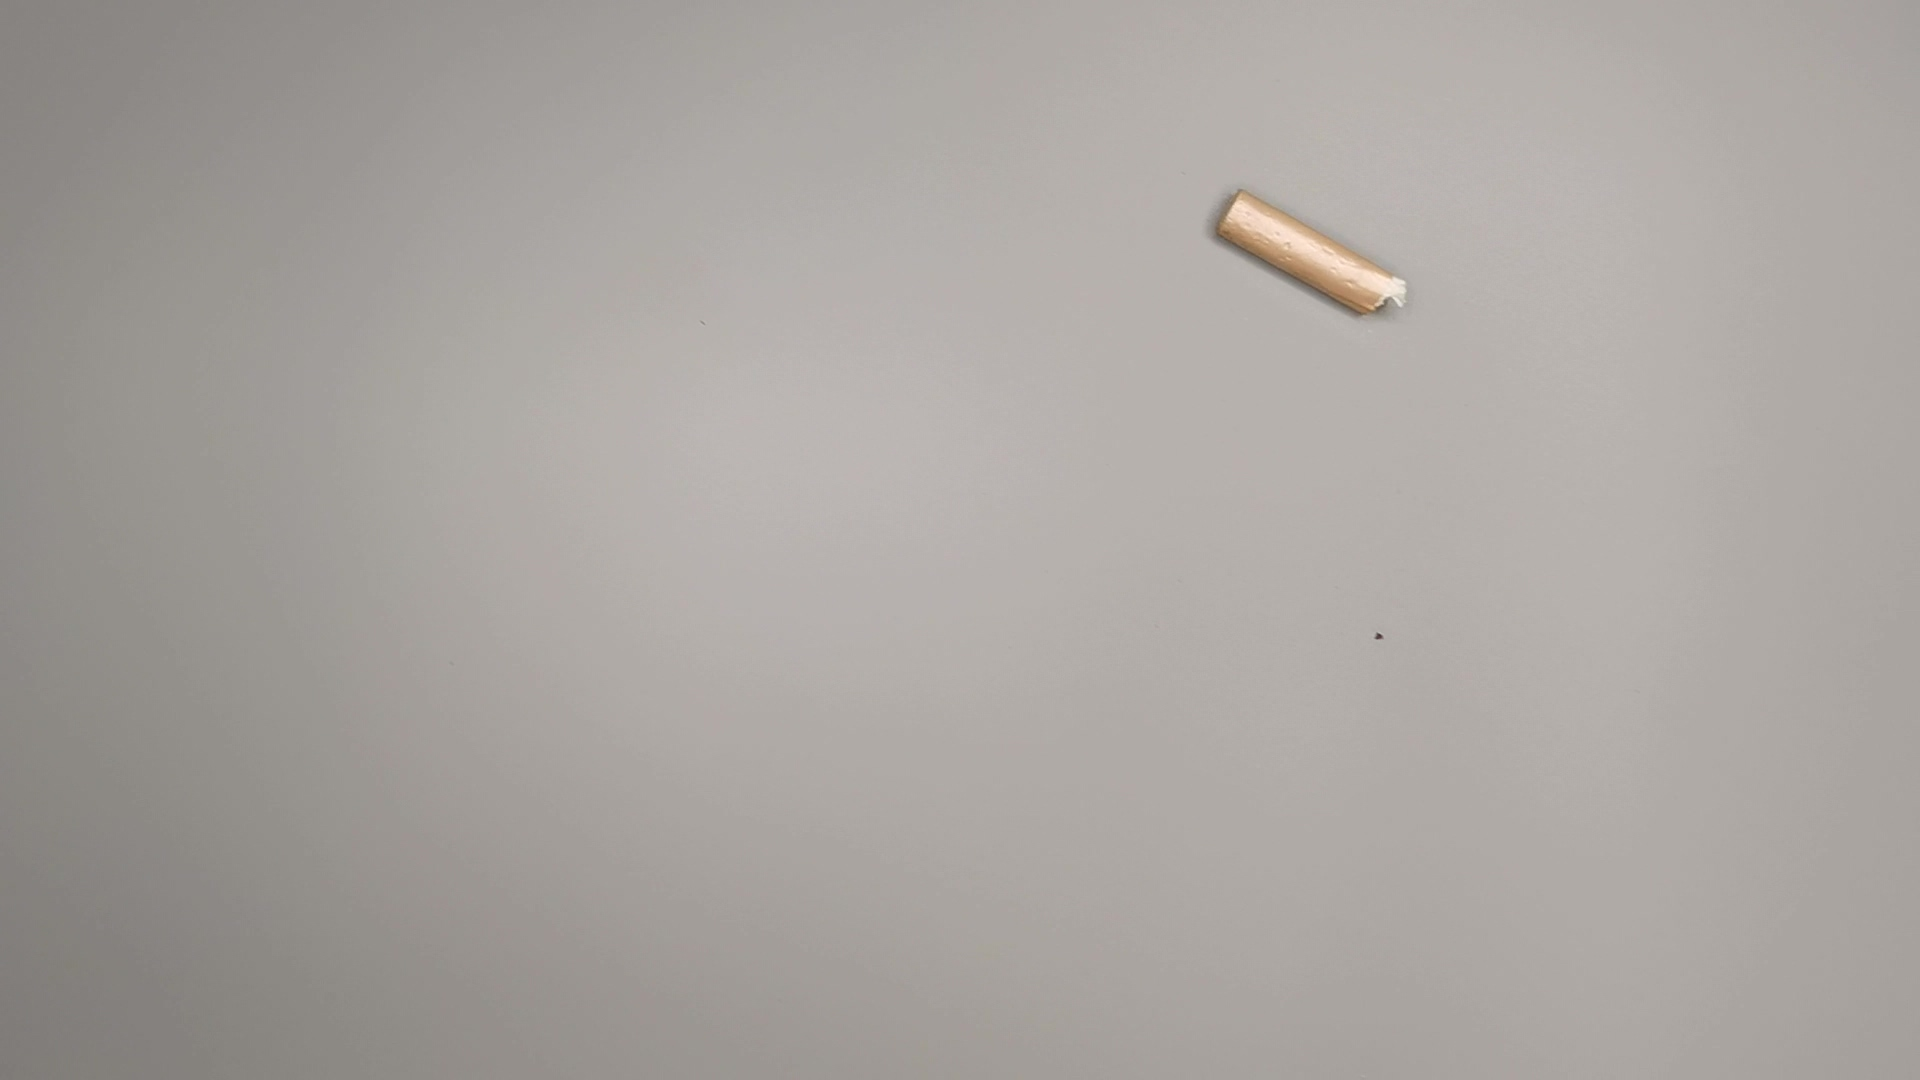cigarette: (1211, 191, 1422, 328)
